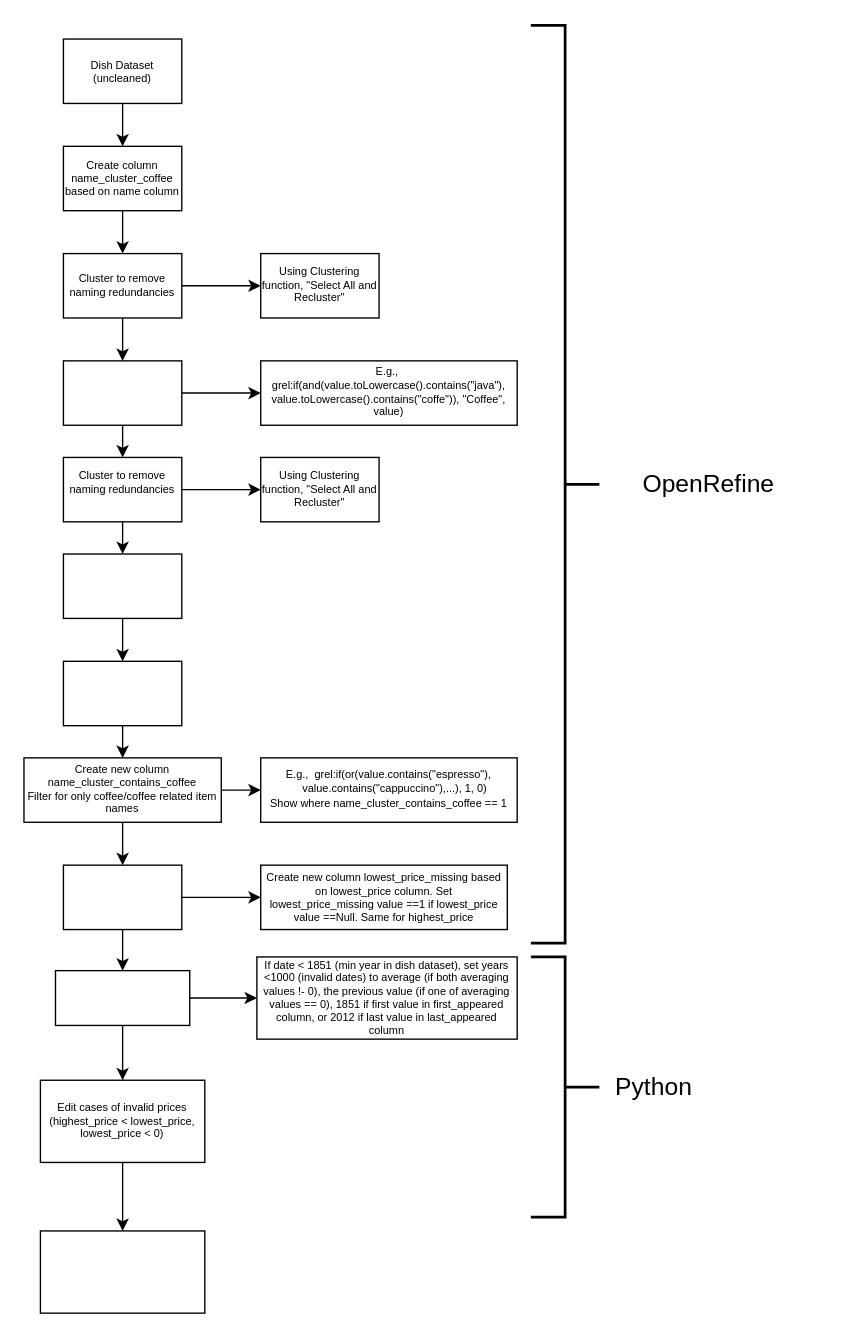
The diagram is 856 pixels wide and 1337 high, and some of its shapes have lost their labels. Each missing label, with the centre of its shape:
Cleaned Dish Dataset for Coffee Use Case: [122,1271]
Edit invalid first_appeared and last_appeared dates: [122,997]
Remove empty column '"Description": [122,693]
Remove rows with missing lowest_price or highest_price values: [122,897]
Set all values to lowercase: [122,585]
Transform text to clean up names of coffee items: [122,392]
